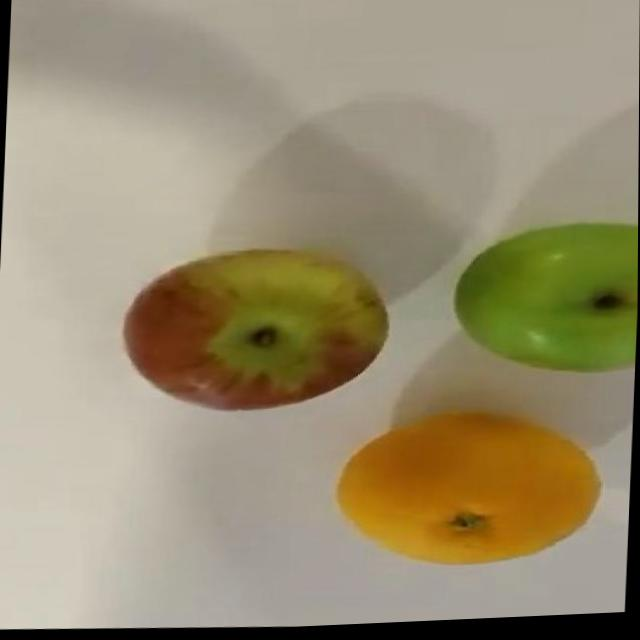Apple: (119, 240, 394, 422), (451, 220, 639, 384)
Orange: (334, 405, 607, 578)
